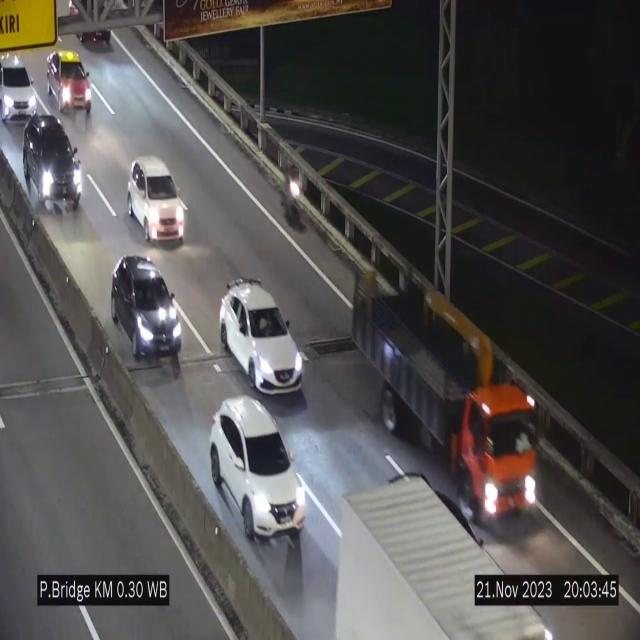Car: (210, 397, 306, 537), (219, 278, 305, 392), (112, 255, 182, 365), (20, 112, 90, 210), (127, 156, 185, 242), (46, 46, 92, 115), (0, 58, 38, 124)
Motorcycle: (278, 155, 305, 236)
Truck: (348, 256, 544, 531)
